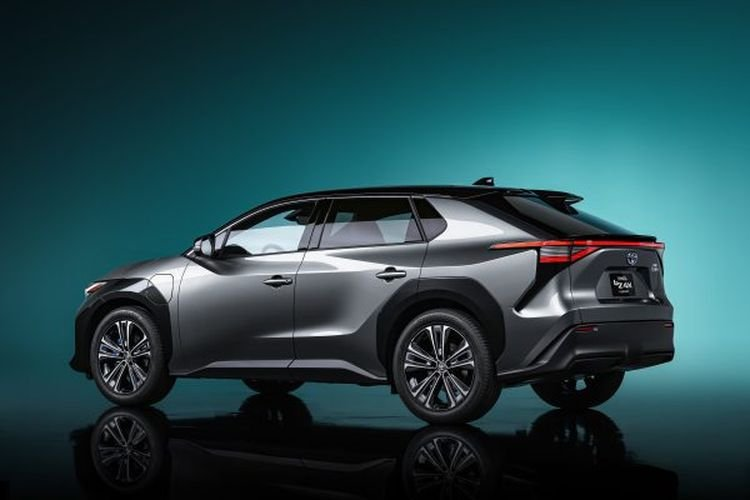mobil: (54, 169, 676, 421)
